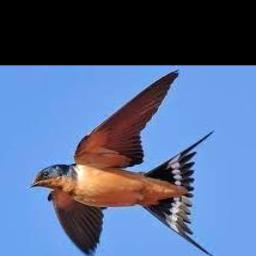Swallow: (25, 69, 214, 256)
